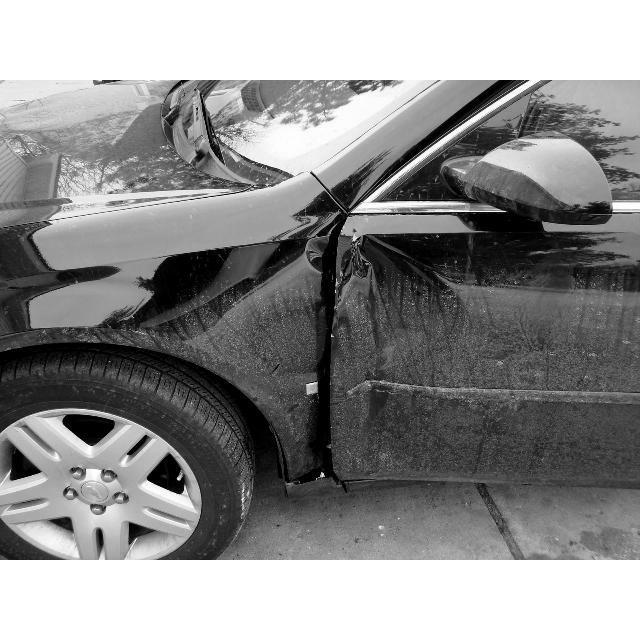fender-dent: (16, 253, 380, 486)
